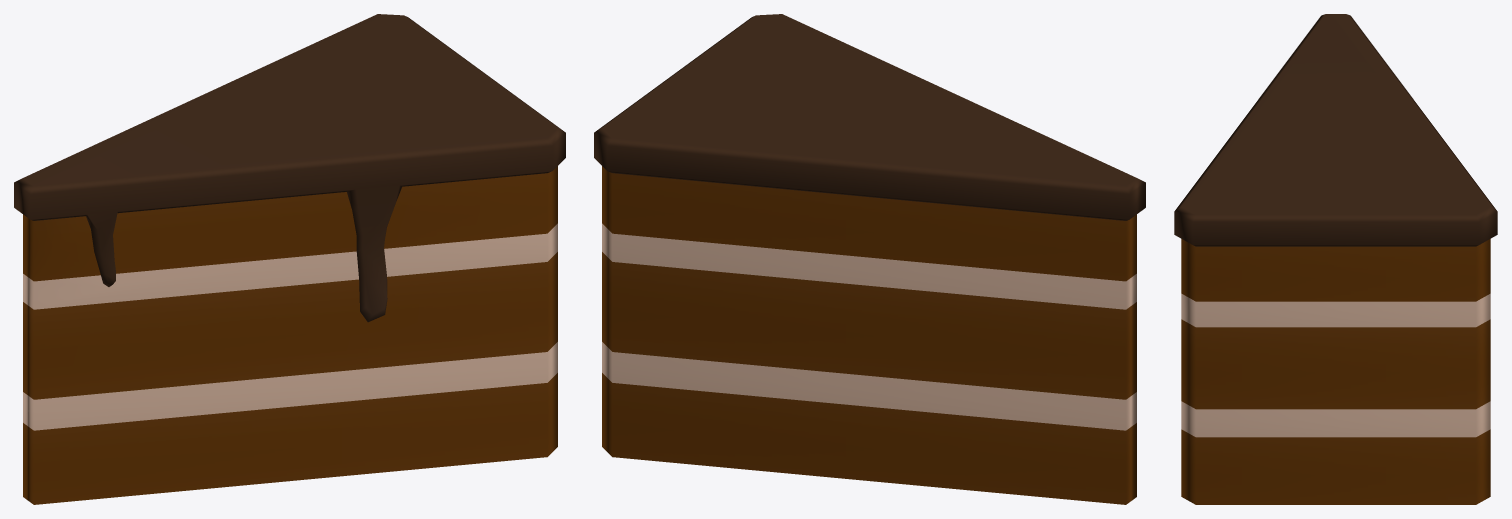
File: Product Chocolate Cake.fbx
The picture shows the model from 3 angles, left to right: view 1: azimuth 30°, elevation 25°; view 2: azimuth 150°, elevation 25°; view 3: azimuth 270°, elevation 25°; orthographic projection. The views are drawn at different scales.
Parts seen in each view (by area): view 1: Product_Chocolate_Cake; view 2: Product_Chocolate_Cake; view 3: Product_Chocolate_Cake.
Part boxes in pixels (x1,y1,x2,y2): Product_Chocolate_Cake: [14, 14, 565, 504]; Product_Chocolate_Cake: [594, 14, 1145, 504]; Product_Chocolate_Cake: [1174, 14, 1497, 504].
Size of the model in its own units: 121 by 79.07 by 79.9.
